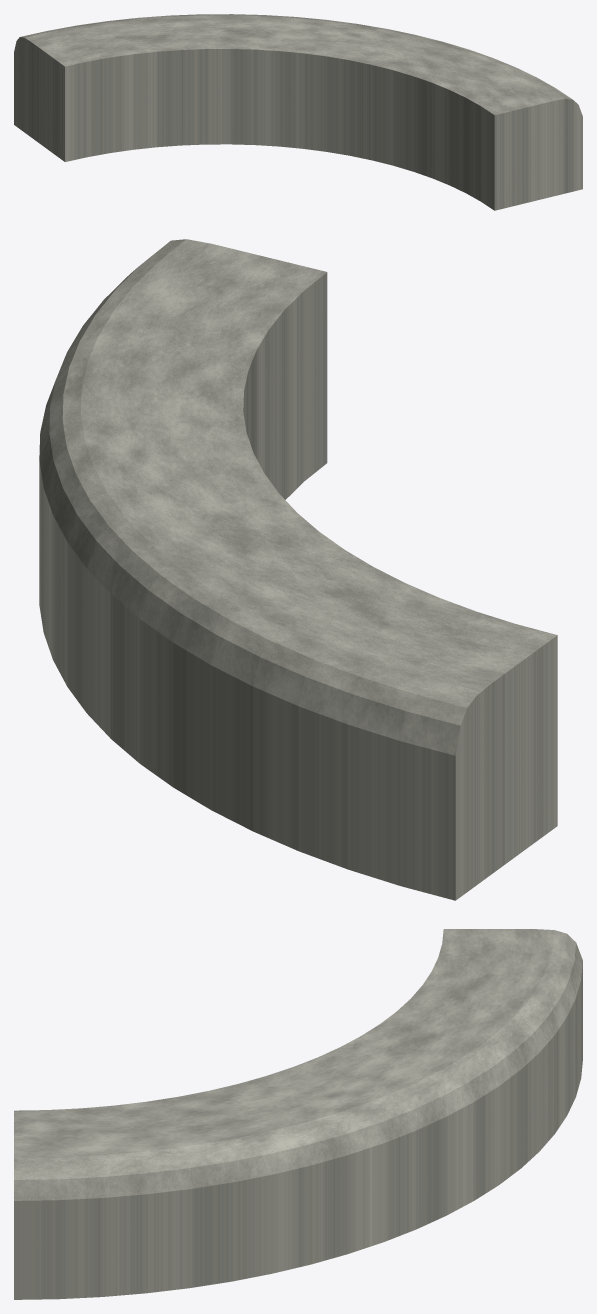
Rendered from PZ_Curb_Corner_90deg.glb.
The picture shows the model from 3 angles, top to bottom: view 1: azimuth 30°, elevation 25°; view 2: azimuth 150°, elevation 25°; view 3: azimuth 270°, elevation 25°; orthographic projection. The views are drawn at different scales.
Parts seen in each view (by area): view 1: PZ_Curb_Corner_90deg__Radius_1m_Curb_Return; view 2: PZ_Curb_Corner_90deg__Radius_1m_Curb_Return; view 3: PZ_Curb_Corner_90deg__Radius_1m_Curb_Return.
Part boxes in pixels (x1,y1,x2,y2): PZ_Curb_Corner_90deg__Radius_1m_Curb_Return: (14,14,582,210); PZ_Curb_Corner_90deg__Radius_1m_Curb_Return: (39,239,557,900); PZ_Curb_Corner_90deg__Radius_1m_Curb_Return: (14,929,582,1299).
Size of the model in its own units: 1 by 0.253 by 1.
Materials: 1 (1 with a texture image).
